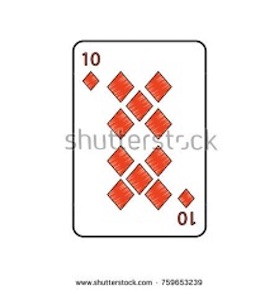TenOfDiamonds: (70, 38, 208, 240)
